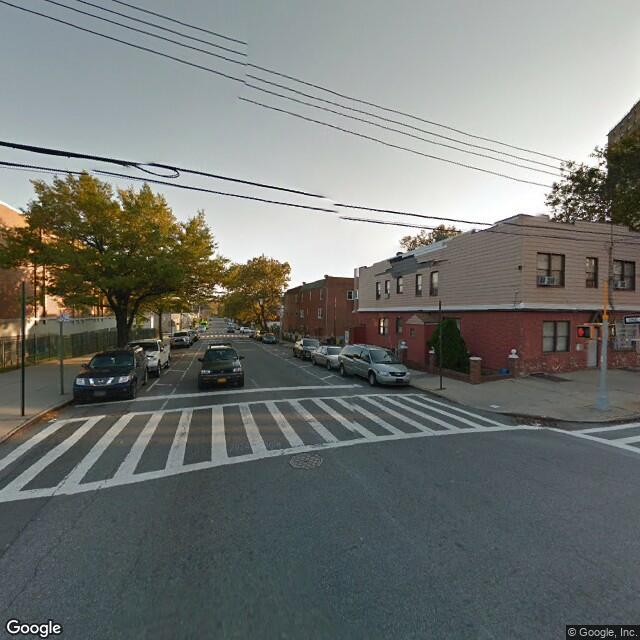litter: (526, 417, 546, 426), (44, 416, 60, 424), (489, 403, 500, 409)
